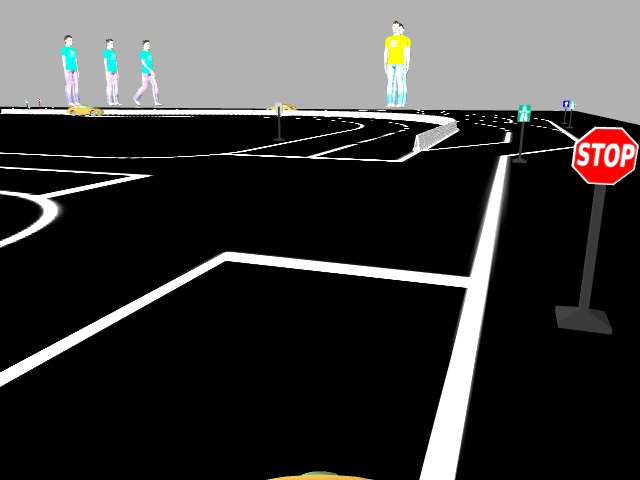Stop: (573, 124, 637, 185)
